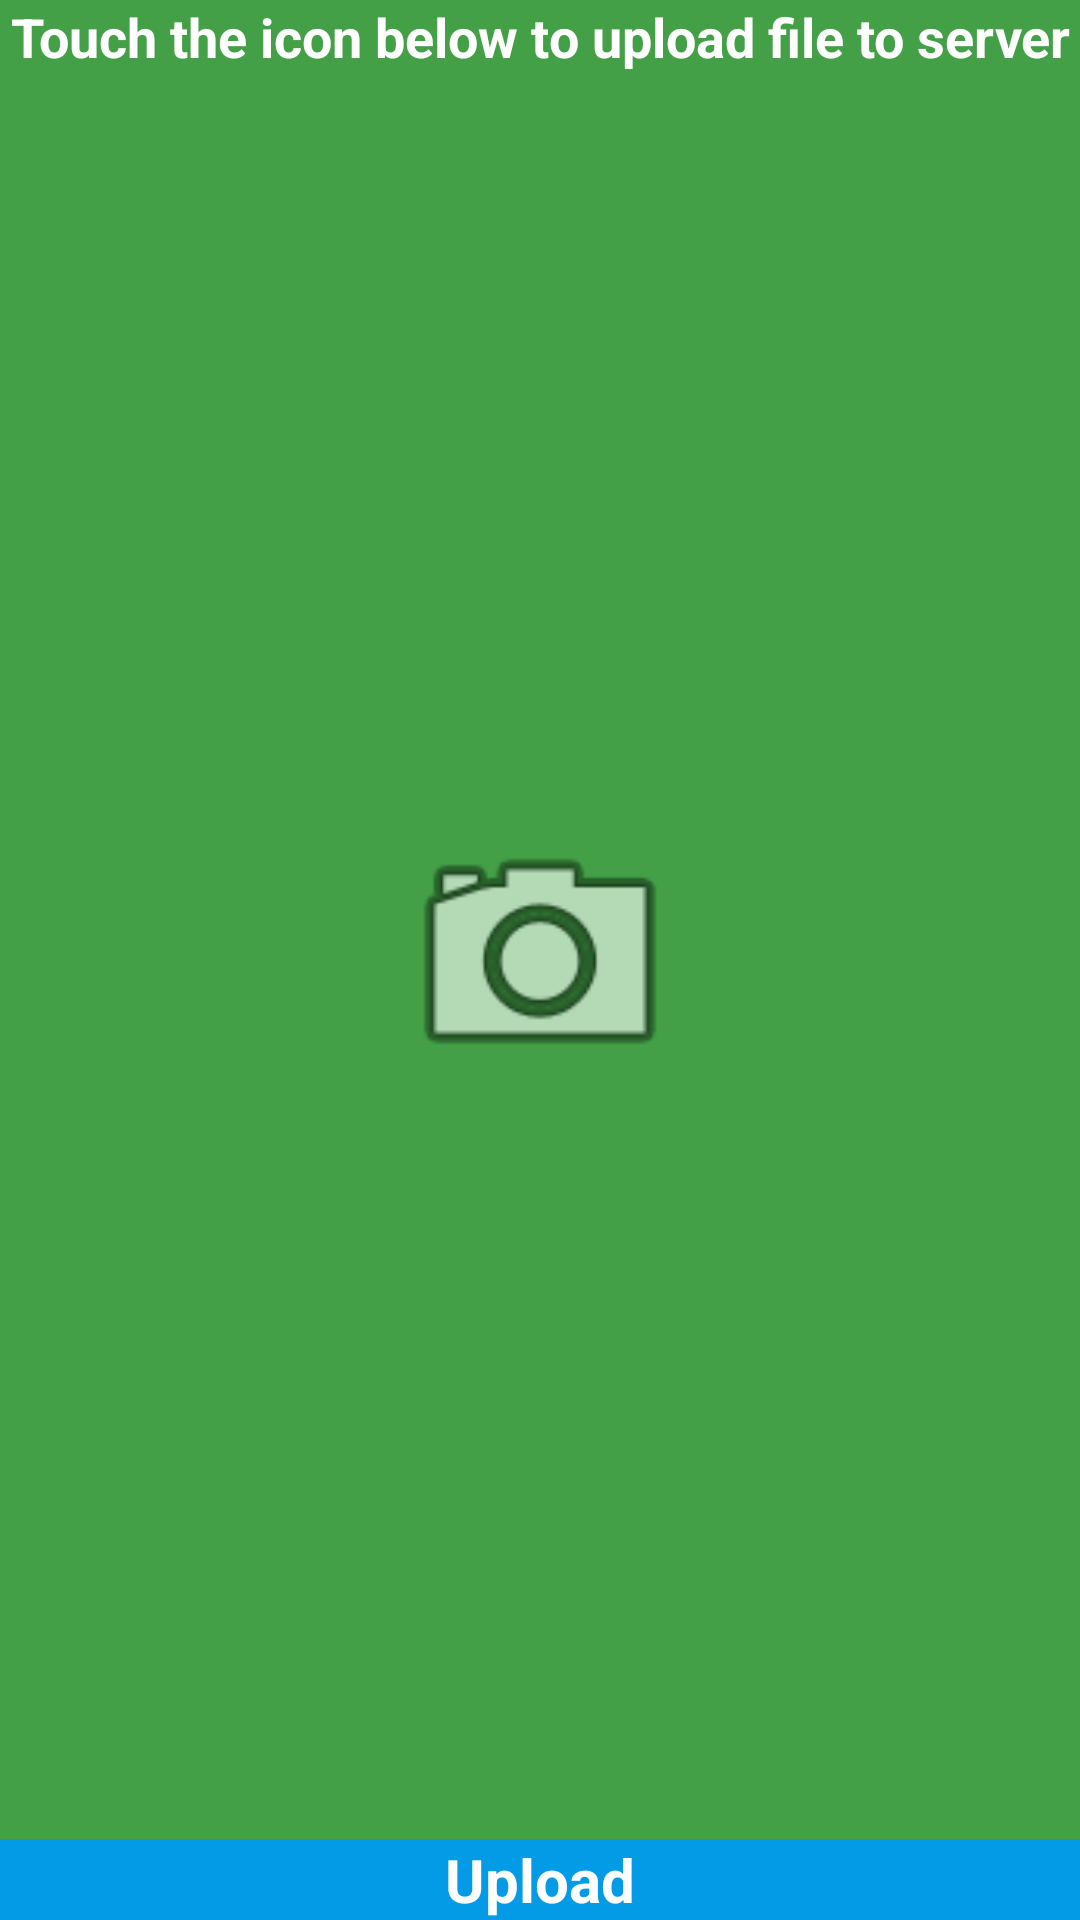

Named icons in this screenshot (1080×1920) and their bounding boxes, rect(x1, y1, x2, y2):
camera: rect(425, 859, 655, 1043)
